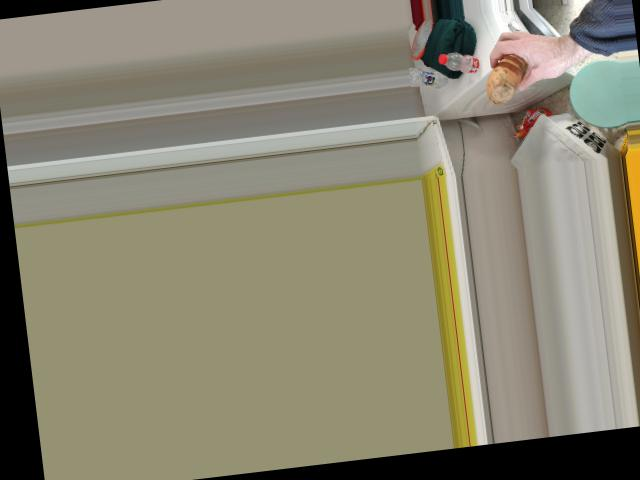sweet_potato: (481, 55, 530, 104)
